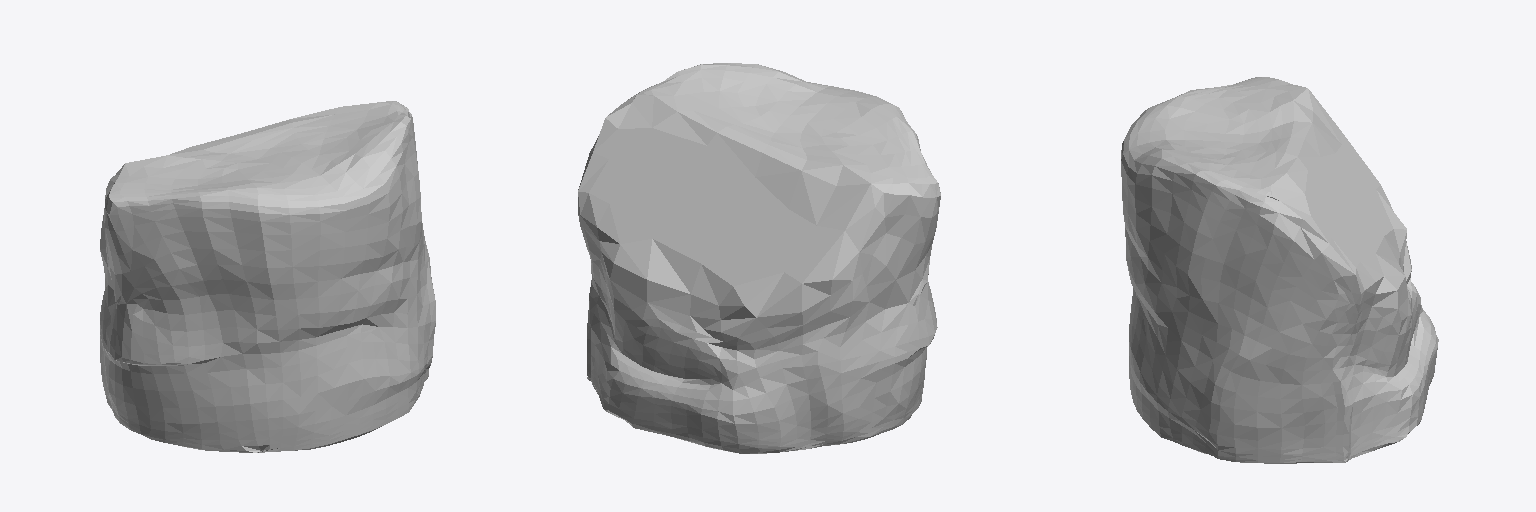
File: lowpolrock.OBJ
3 views of the same model, side by side, from view 1: azimuth 30°, elevation 25°; view 2: azimuth 150°, elevation 25°; view 3: azimuth 270°, elevation 25° (orthographic).
Visible parts, largest first — view 1: Group58044; view 2: Group58044; view 3: Group58044.
Part boxes in pixels (x1,y1,x2,y2): Group58044: (100, 101, 435, 452); Group58044: (578, 63, 940, 453); Group58044: (1121, 77, 1438, 463).
Size of the model in its own units: 2.39 by 1.96 by 2.06.